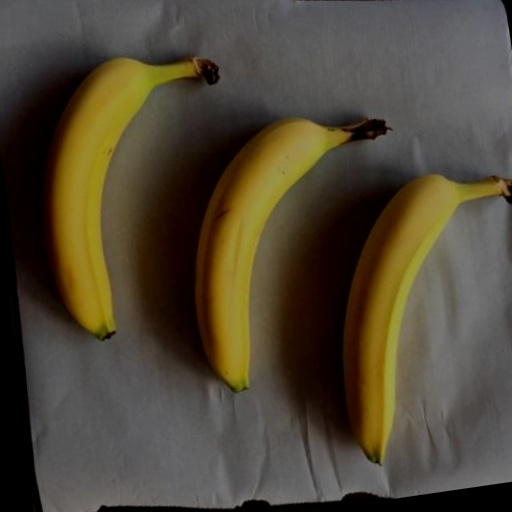fruit: (195, 118, 387, 390), (43, 58, 218, 340), (343, 175, 512, 464)
